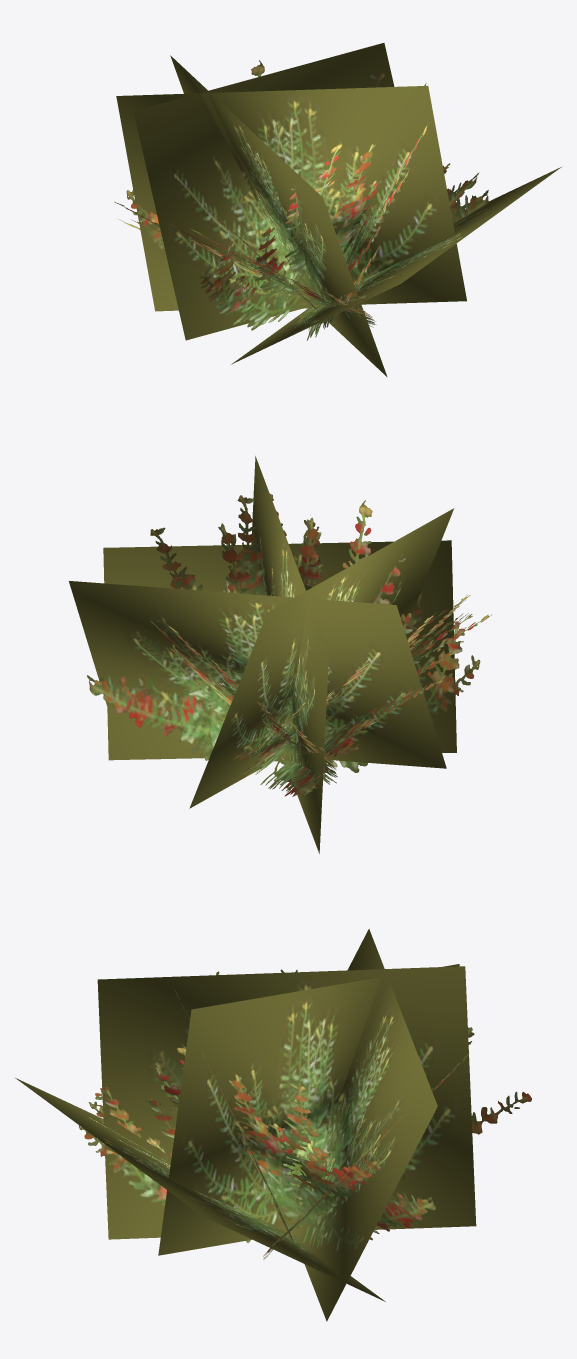
Rendered from shrb_arid_green_flowering_a2_l0.fbx.
3 renders of one model, top to bottom at view 1: azimuth 30°, elevation 25°; view 2: azimuth 150°, elevation 25°; view 3: azimuth 270°, elevation 25°, orthographic. The views are drawn at different scales.
Visible parts, largest first — view 1: mesh_node; view 2: mesh_node; view 3: mesh_node.
Boxes of the visible parts, left/top/right/bottom form: mesh_node: left=114, top=43, right=561, bottom=376; mesh_node: left=69, top=456, right=492, bottom=853; mesh_node: left=15, top=929, right=531, bottom=1321.
Size of the model in its own units: 2.41 by 1.38 by 2.34.
